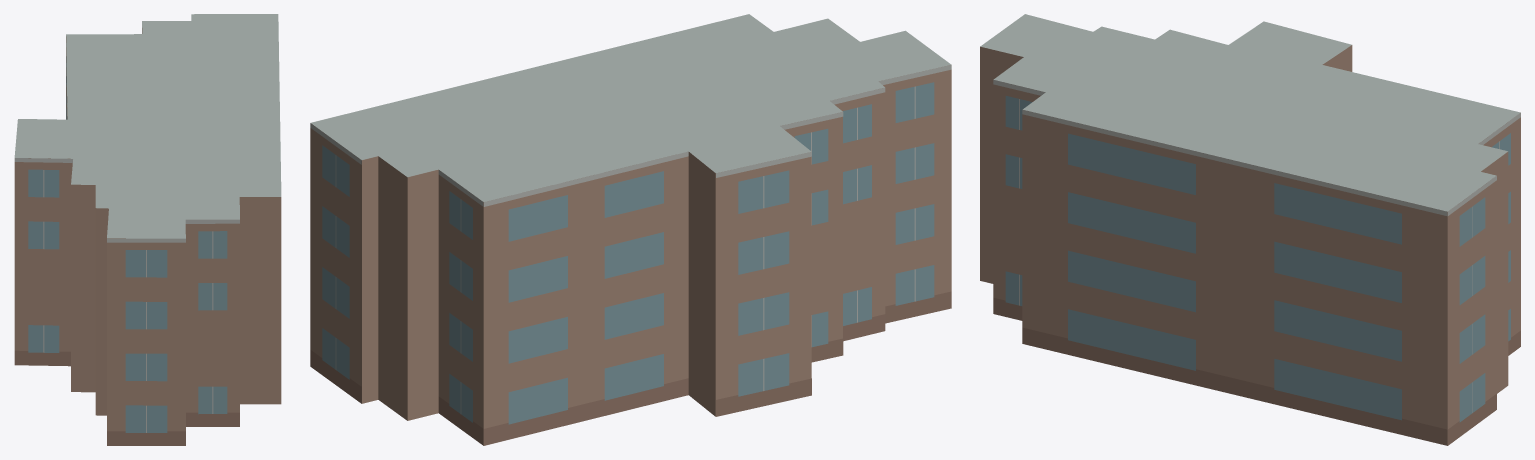
File: survey-upis-33047404.glb
3 renders of one model, left to right at view 1: azimuth 30°, elevation 25°; view 2: azimuth 150°, elevation 25°; view 3: azimuth 270°, elevation 25°, orthographic. The views are drawn at different scales.
Parts seen in each view (by area): view 1: survey-upis-33047404.tmp; view 2: survey-upis-33047404.tmp; view 3: survey-upis-33047404.tmp.
Boxes of the visible parts, <box> form: survey-upis-33047404.tmp: <box>14,14,281,445</box>; survey-upis-33047404.tmp: <box>310,14,951,445</box>; survey-upis-33047404.tmp: <box>980,14,1520,445</box>.
Bounding box in the file's own units: 22.09 × 12.2 × 25.54.
